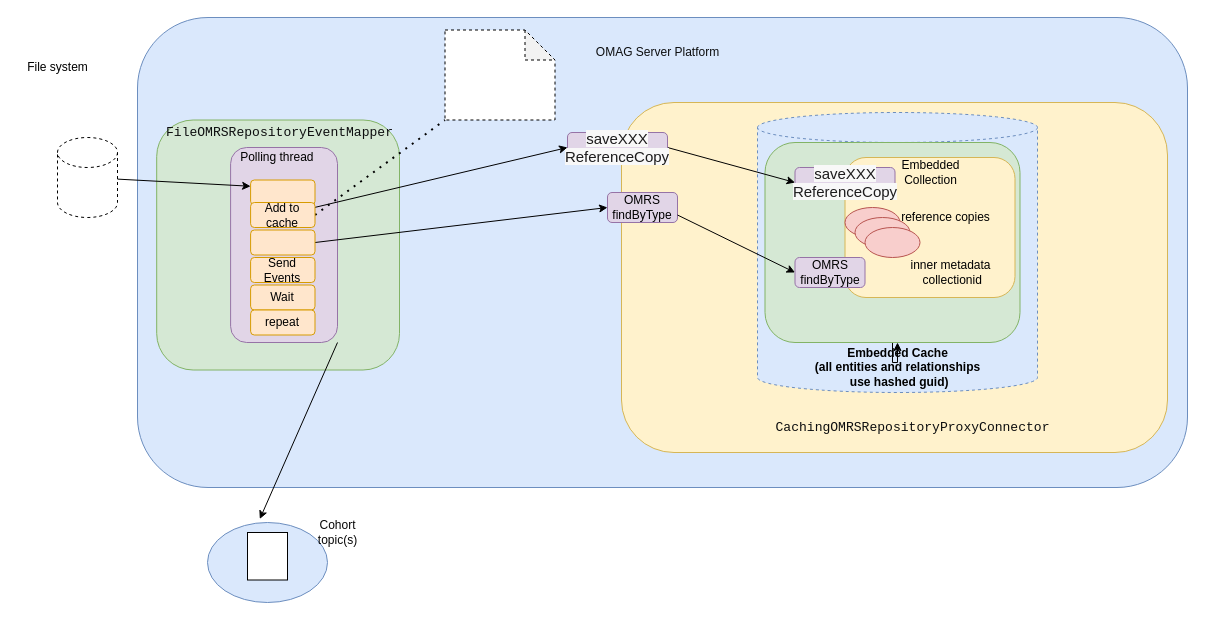
This 1205x620 diagram has some shape labels left out. Each missing label, with the centre of its shape:
constructs a 'hashed' guid with a hash of the qualified name: (499,74)
Find entities: (282,242)
Get file info: (282,192)
